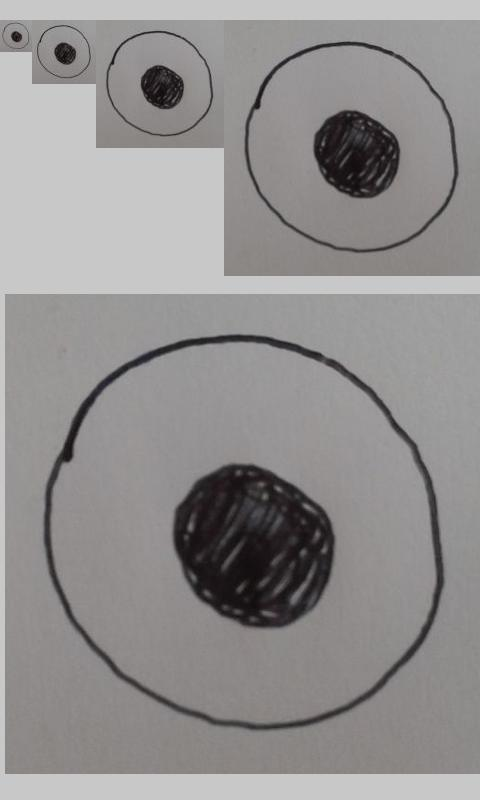radio_button: (41, 331, 447, 734), (241, 36, 462, 257), (105, 30, 214, 137), (36, 24, 92, 79), (1, 22, 30, 50)
